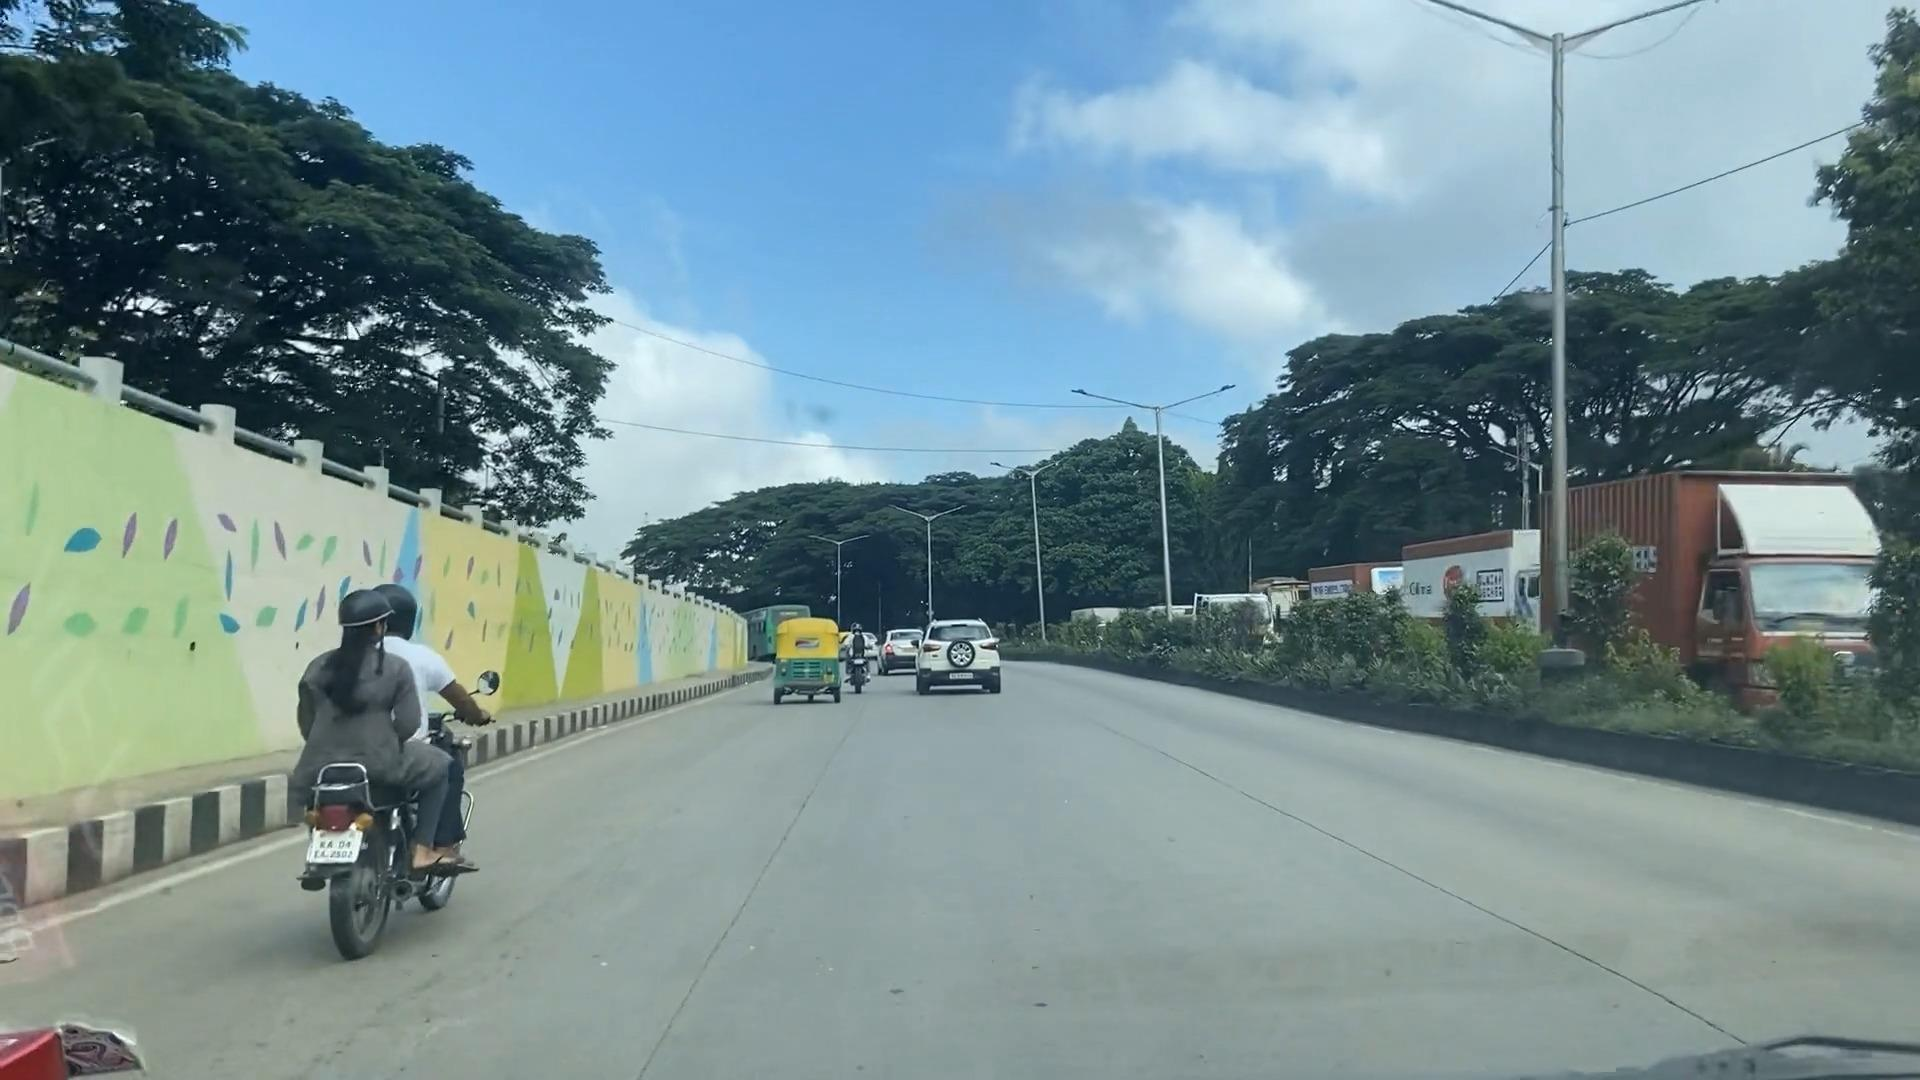LMV: (306, 585, 469, 949), (919, 620, 997, 691), (777, 617, 841, 703)
